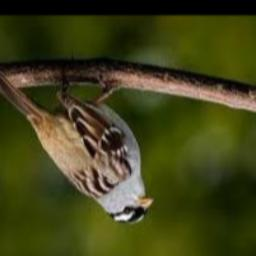Sparrow: (0, 68, 154, 225)
